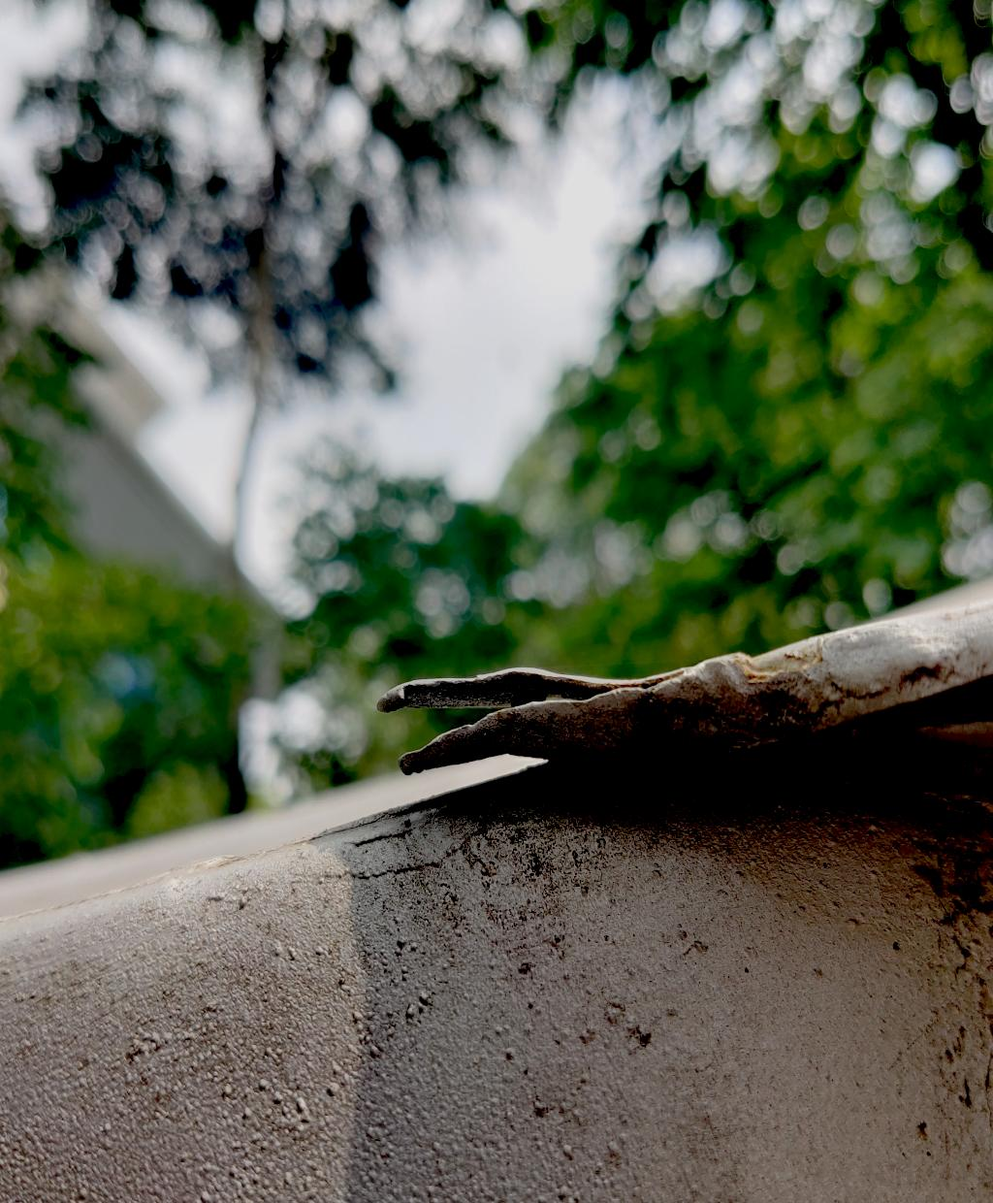crack: (348, 605, 698, 851)
